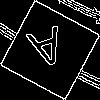A: (25, 25, 71, 79)
